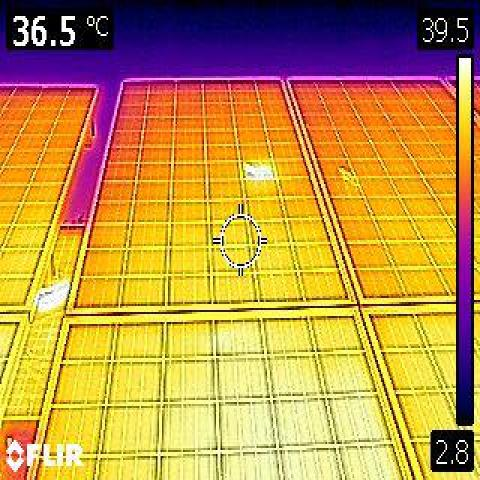fault: (241, 156, 277, 183)
